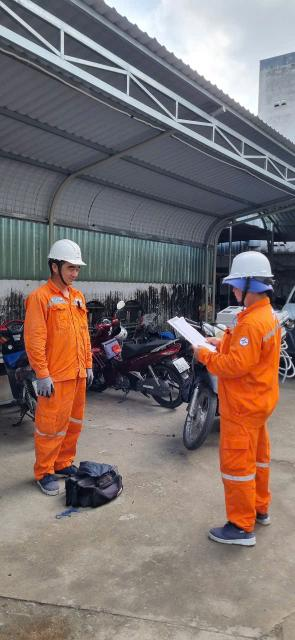gloves: (37, 372, 61, 403), (82, 370, 97, 387)
helmet: (221, 247, 277, 286), (52, 235, 93, 278)
shoes: (193, 504, 257, 556), (235, 498, 276, 528), (48, 453, 85, 474), (33, 469, 58, 497)
